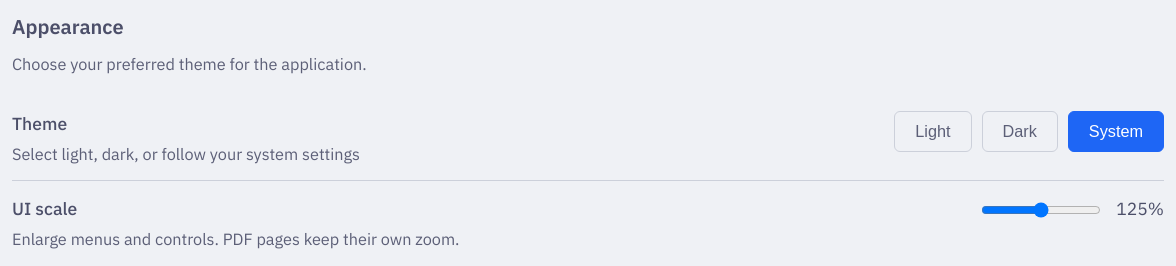
Scenario: adjustable UI scale › exposes a keyboard-native percentage slider in Appearance
The width and height of the screenshot is (1176, 266).
Step 1. Set the slider named "UI scale" to "140" → [1072, 210], box 981,202 -> 1101,218
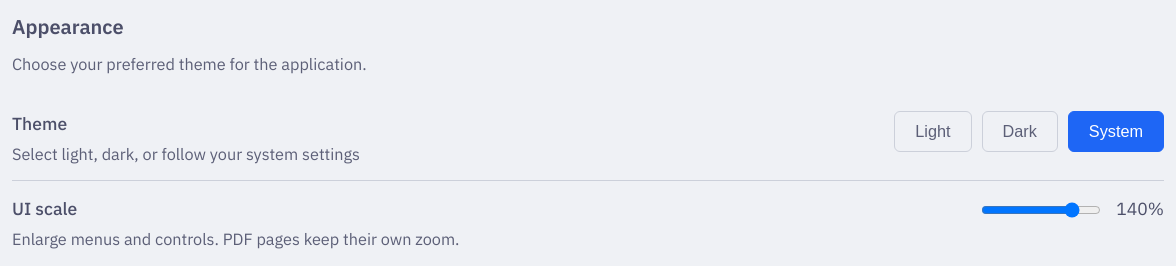
Now the text "140%" is shown, box 1116,196 -> 1164,223
